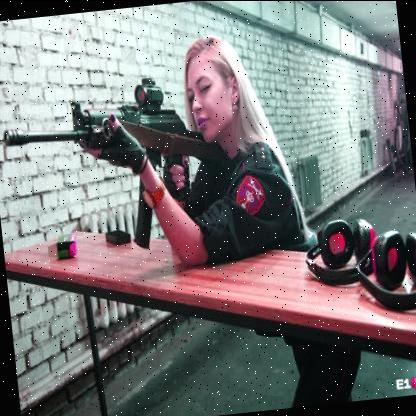rifle: (0, 66, 223, 252)
